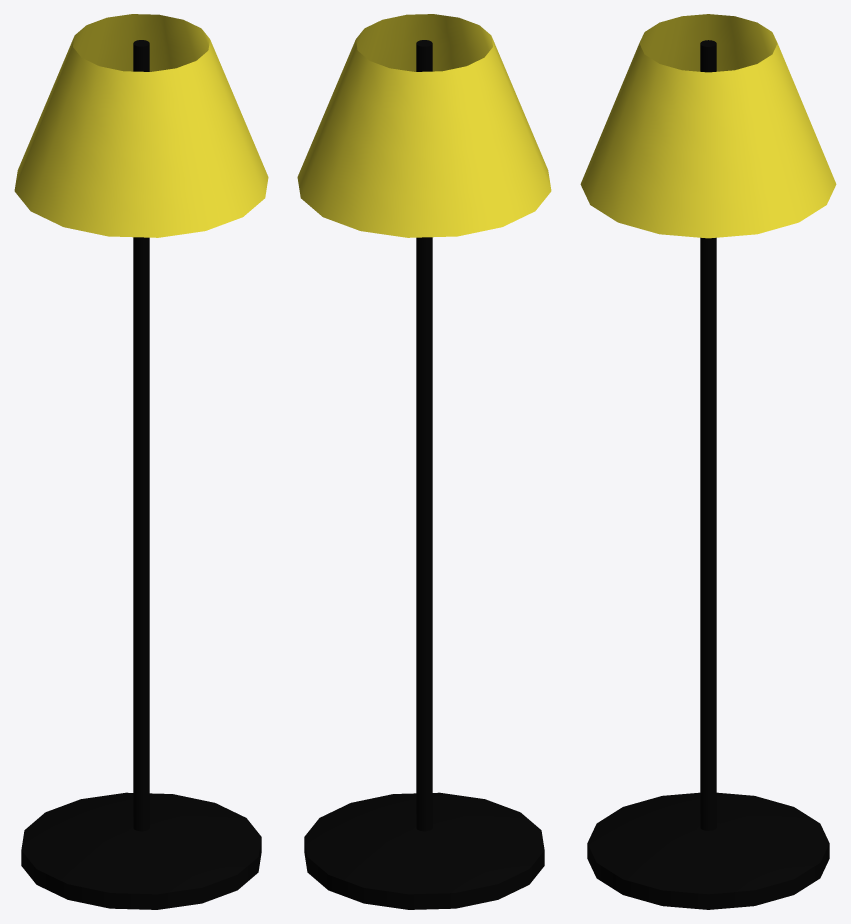
The model's file is stand.fbx.
The picture shows the model from 3 angles, left to right: view 1: azimuth 30°, elevation 25°; view 2: azimuth 150°, elevation 25°; view 3: azimuth 270°, elevation 25°; orthographic projection.
Parts seen in each view (by area): view 1: 전등갓, 프레임; view 2: 전등갓, 프레임; view 3: 전등갓, 프레임.
Part boxes in pixels (bbox=[...]): 전등갓: bbox=[14, 14, 268, 237]; 프레임: bbox=[21, 40, 261, 909]; 전등갓: bbox=[297, 14, 551, 237]; 프레임: bbox=[304, 40, 544, 909]; 전등갓: bbox=[580, 14, 836, 238]; 프레임: bbox=[587, 40, 829, 909].
Size of the model in its own units: 148 by 520 by 148.
